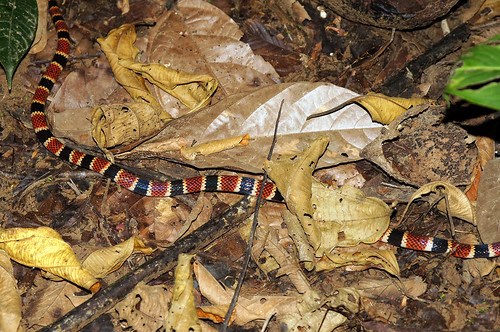animal: (11, 1, 486, 267)
vegetation: (1, 1, 500, 332)
